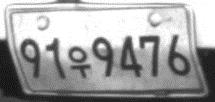1: (44, 36, 67, 80)
4: (118, 35, 143, 79)
6: (166, 33, 191, 77)
7: (137, 33, 161, 78)
9: (91, 37, 116, 78), (19, 38, 42, 79)
우: (68, 45, 91, 78)
